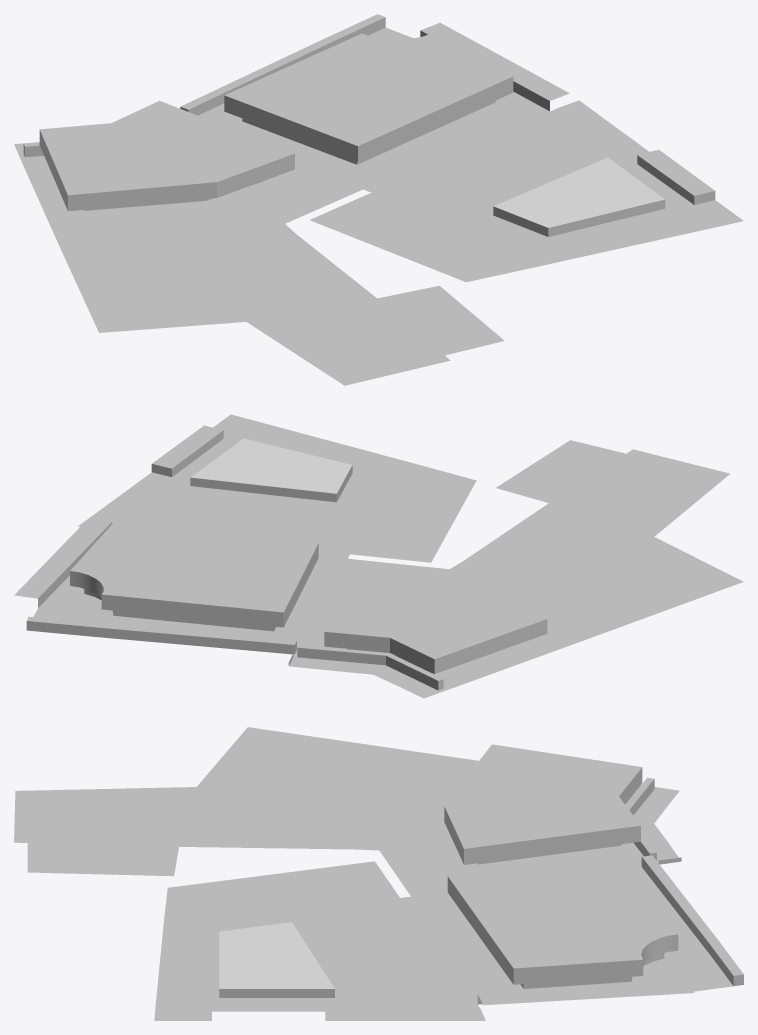
File: TopWall.fbx
The picture shows the model from 3 angles, top to bottom: view 1: azimuth 30°, elevation 25°; view 2: azimuth 150°, elevation 25°; view 3: azimuth 270°, elevation 25°; orthographic projection. The views are drawn at different scales.
Visible parts, largest first — view 1: TopWall; view 2: TopWall; view 3: TopWall.
Boxes of the visible parts, x1,y1,x2,y2 form: TopWall: (14, 14, 743, 385); TopWall: (14, 414, 743, 698); TopWall: (14, 727, 743, 1020).
Bounding box in the file's own units: 1001 × 42.92 × 1051.
